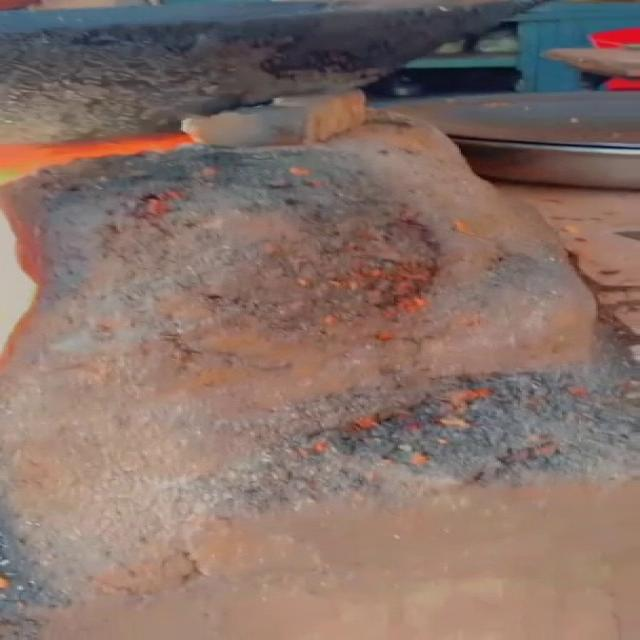Fire: (0, 134, 192, 176), (0, 210, 38, 365)
